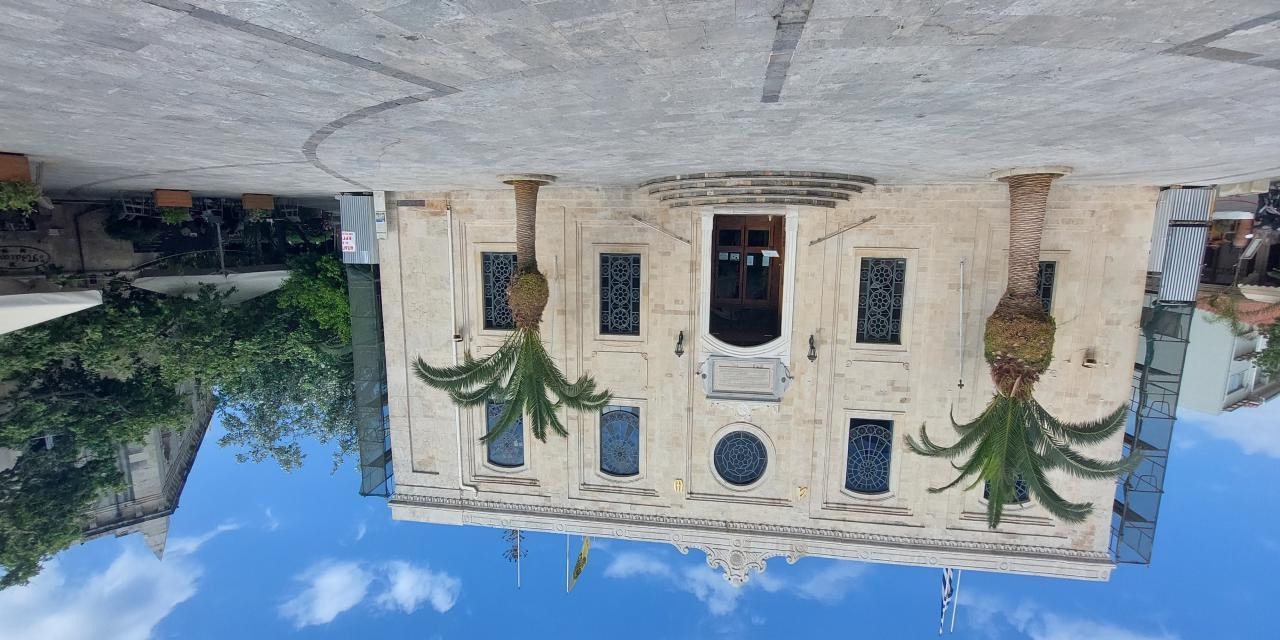Agios Titos: (377, 191, 1156, 573)
